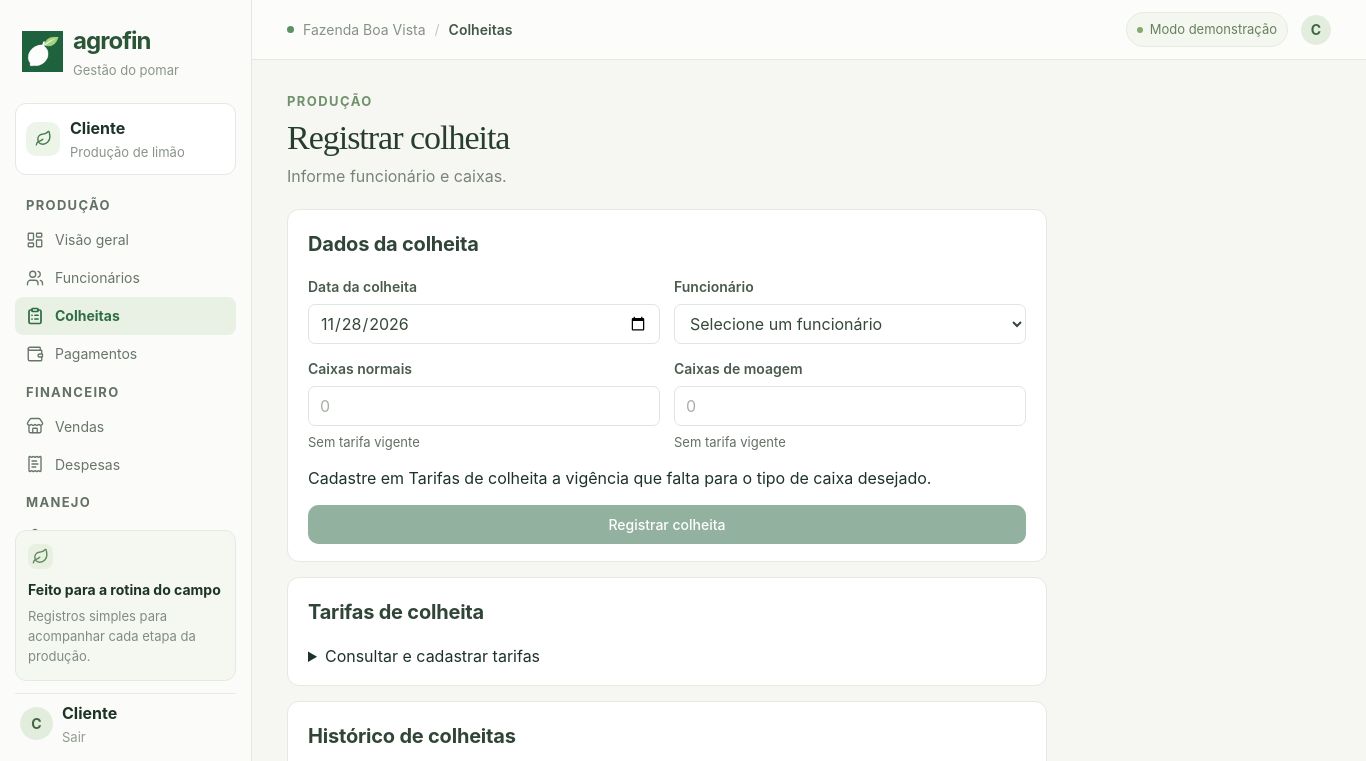
Test: Tarifas e colheitas › permite configurar a conta vazia e usa a tarifa confirmada na prévia
The image size is (1366, 761).
Select "Maria Silva" in the dropdown labelled "Funcionário" at (850, 324), box [674, 304, 1026, 344]
Type "2" into the number field labelled "Caixas normais Sem tarifa vigente".
click(484, 406); type("2")  # box [308, 386, 660, 426]
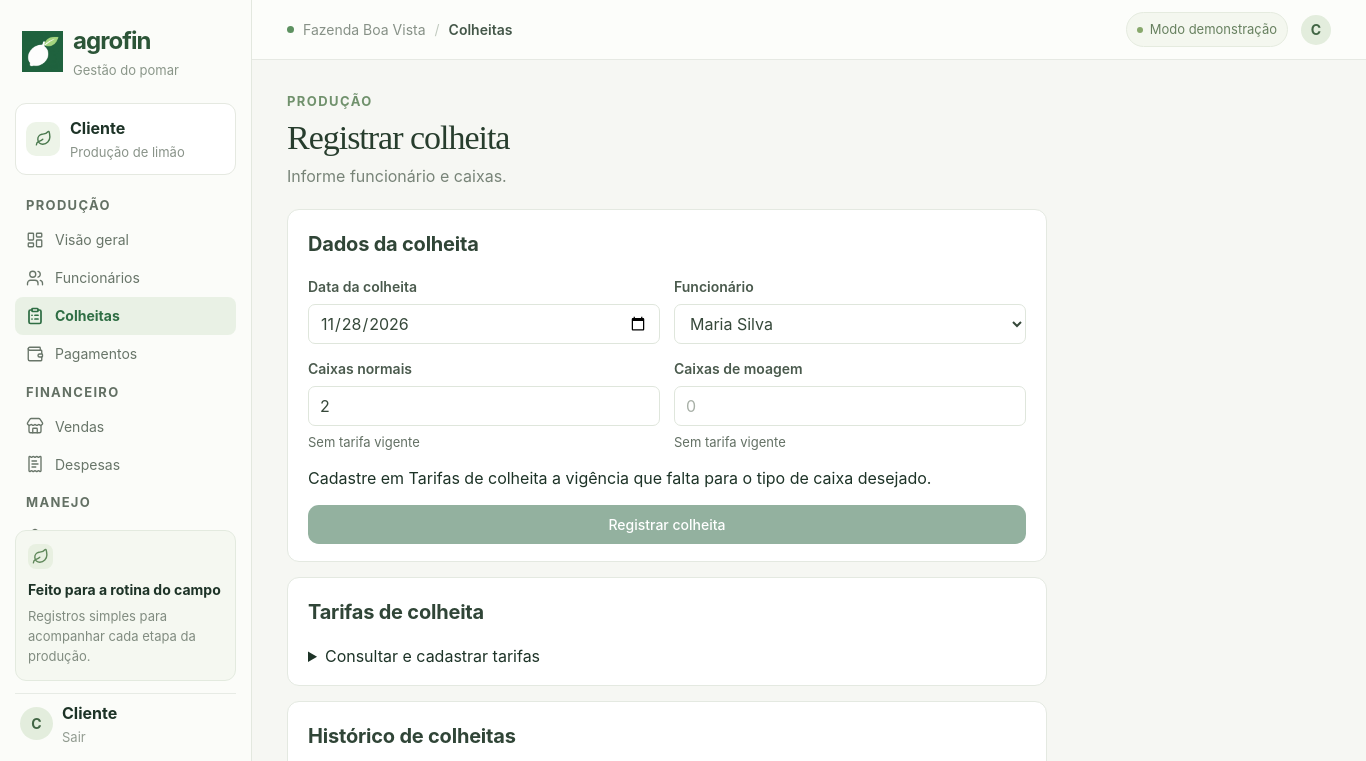
Expected: the button "Registrar colheita" is disabled, [308, 505, 1026, 544]
Click the heading "Consultar e cadastrar tarifas".
click(432, 656)  # box [325, 646, 540, 666]
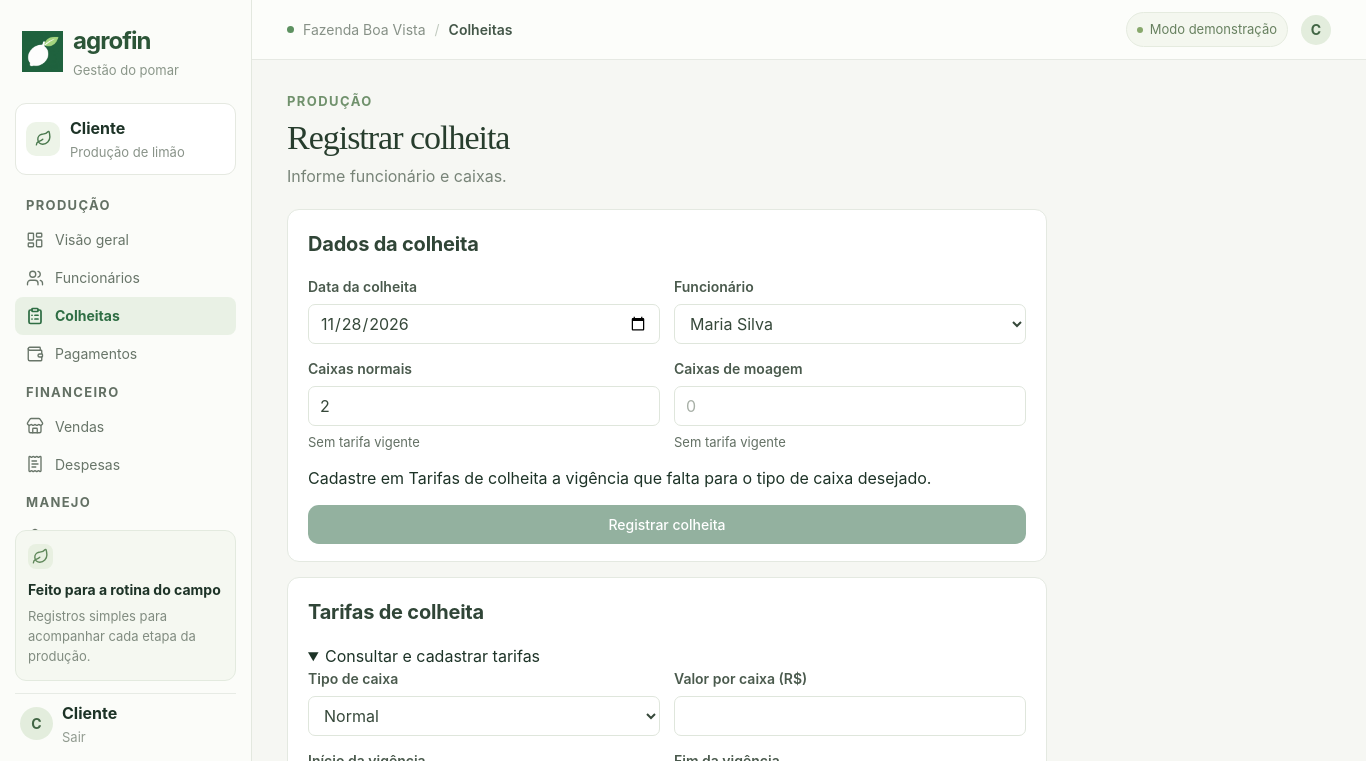
Type "4,05" into the field labelled "Valor por caixa (R$)".
click(850, 716); type("4,05")  # box [674, 696, 1026, 736]
(page scrolled)
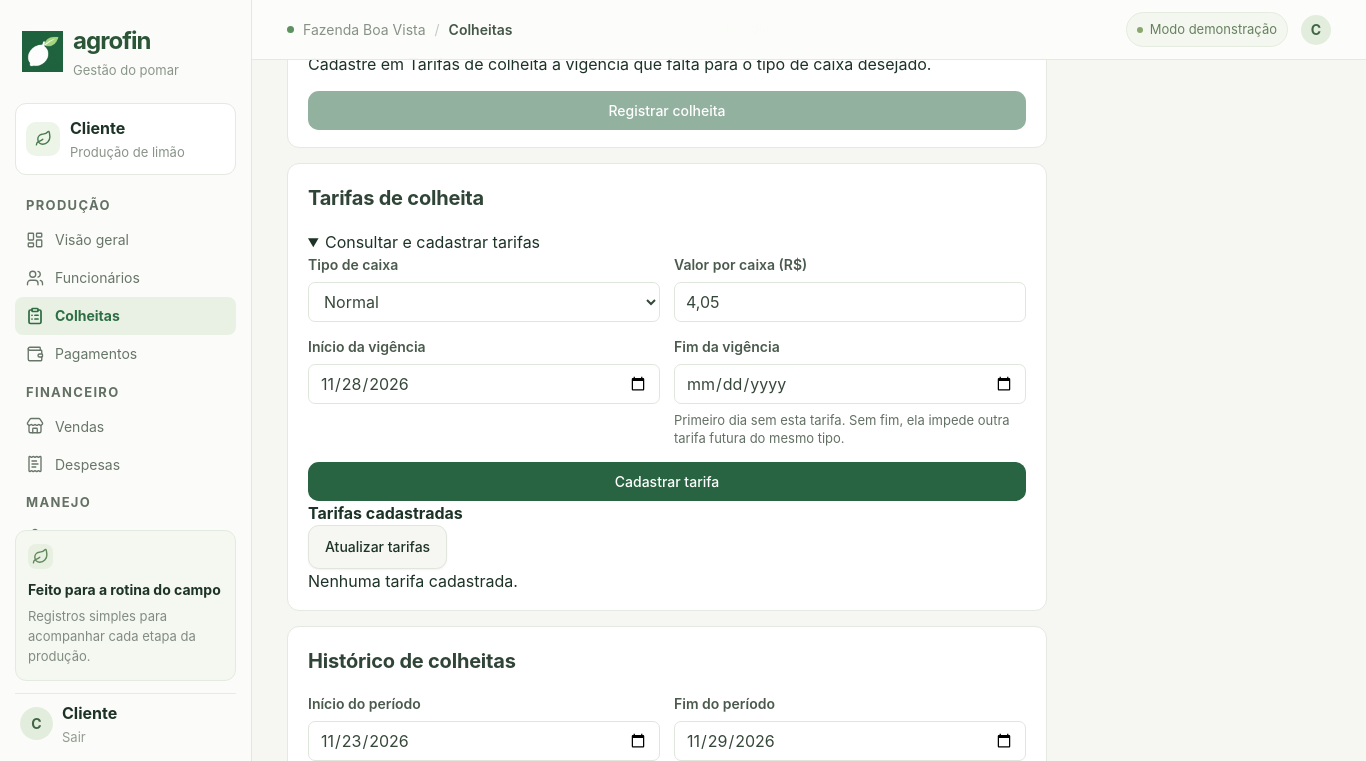
Type "2020-01-01" into the date field labelled "Início da vigência".
click(484, 384); type("2020-01-01")  # box [308, 364, 660, 404]
Type "2019-12-31" into the date field labelled "Fim da vigência".
click(850, 384); type("2019-12-31")  # box [674, 364, 1026, 404]
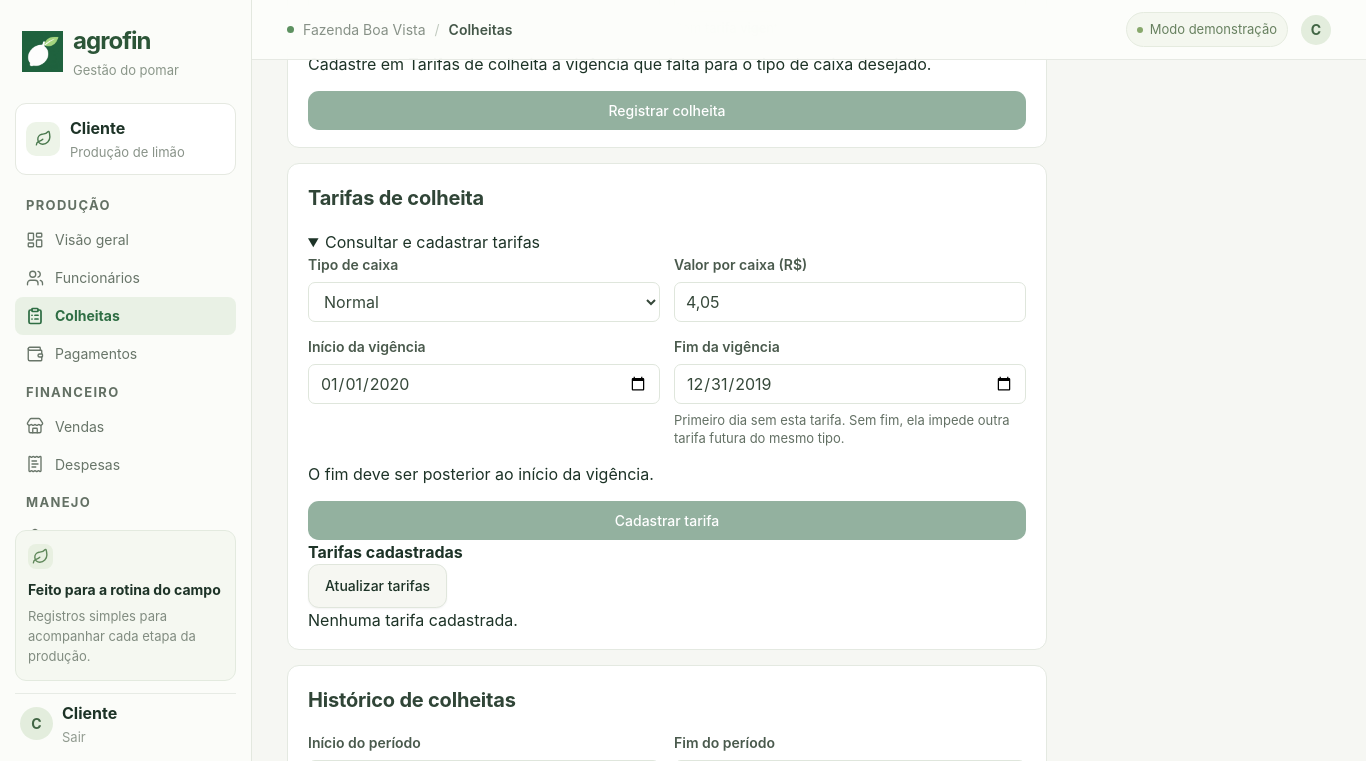
Now the button "Cadastrar tarifa" is disabled, box [308, 502, 1026, 540]
Clear the date field labelled "Fim da vigência" at (850, 384), box [674, 364, 1026, 404]
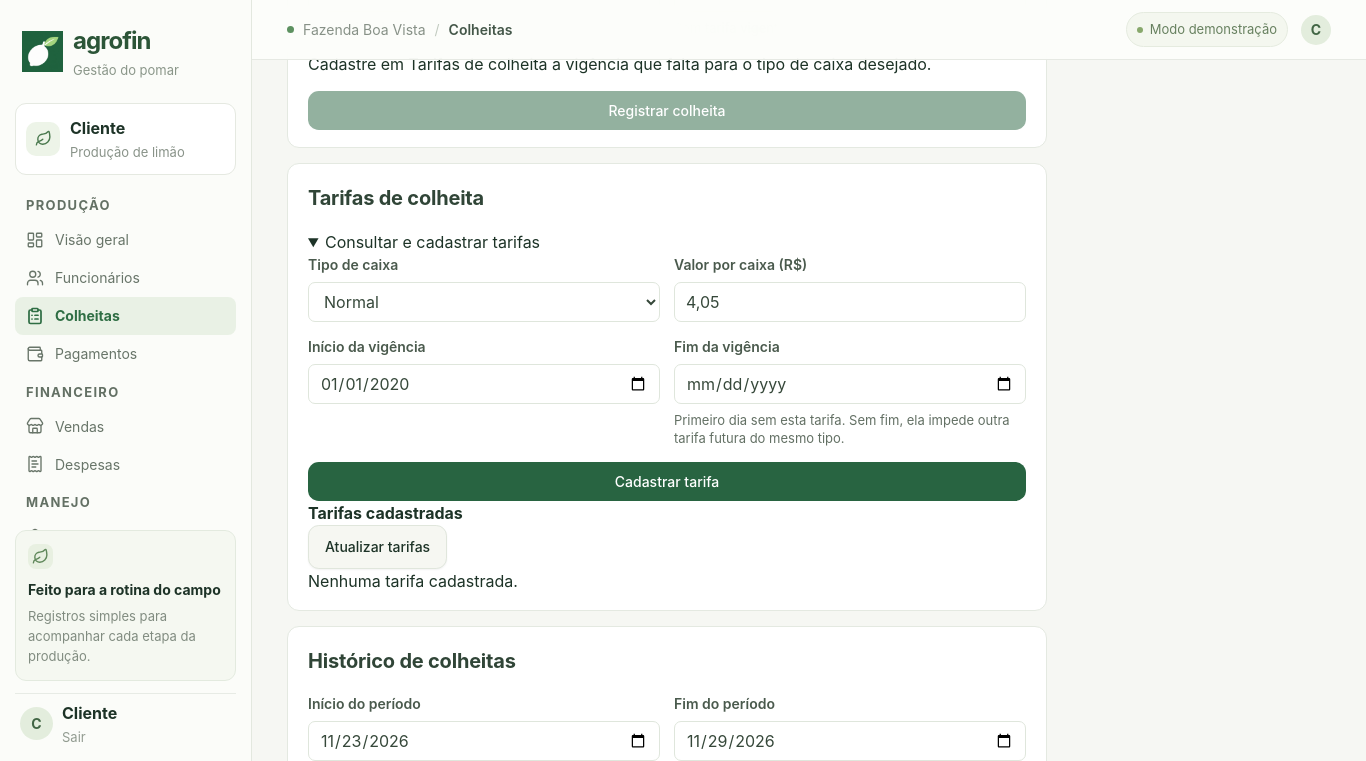
Click the button "Cadastrar tarifa".
click(667, 482)  # box [308, 462, 1026, 502]
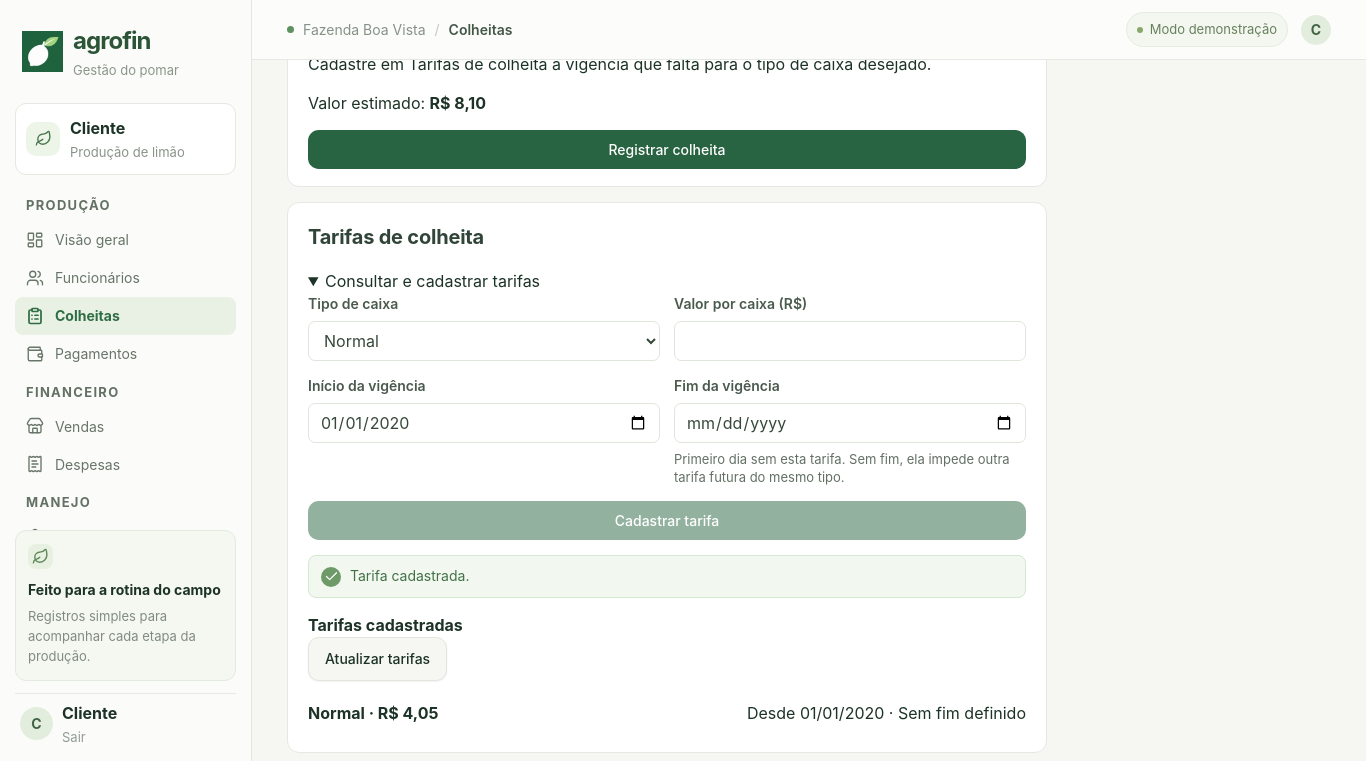
Now the text "Tarifa cadastrada." is shown, box [308, 556, 1026, 598]
Now the text "R$ 8,10" is shown, box [430, 93, 486, 113]
